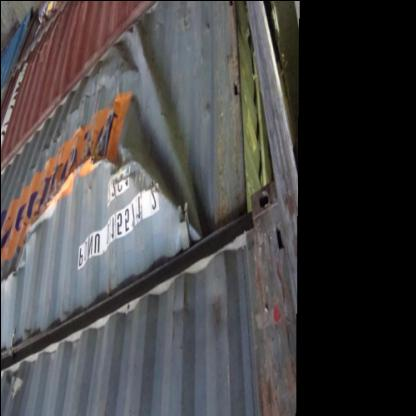Damage: (94, 39, 209, 240), (3, 146, 88, 263)
